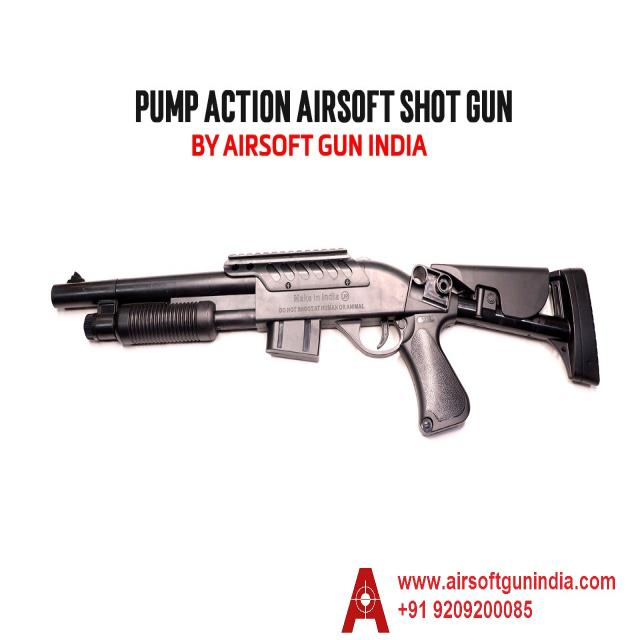ShotGun: (50, 249, 601, 439)
